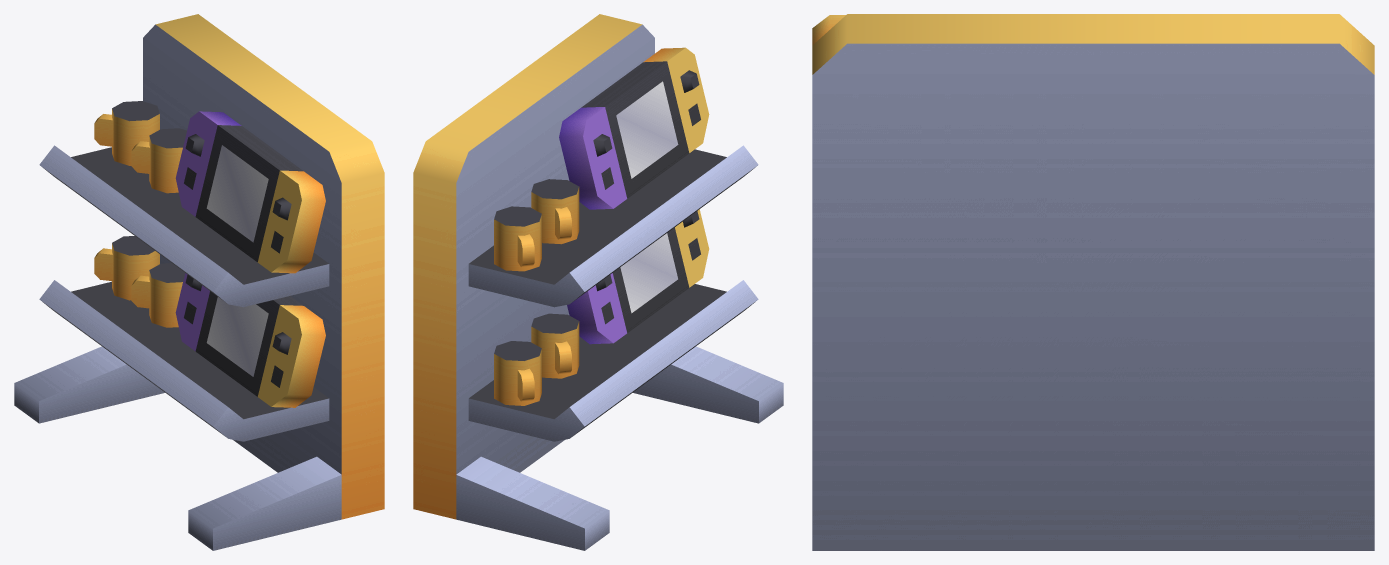
Rendered from prizes.001_lev2.glb.
3 views of the same model, side by side, from view 1: azimuth 30°, elevation 25°; view 2: azimuth 150°, elevation 25°; view 3: azimuth 270°, elevation 25° (orthographic). The views are drawn at different scales.
Parts seen in each view (by area): view 1: prizes.001_lev2; view 2: prizes.001_lev2; view 3: prizes.001_lev2.
Boxes of the visible parts, x1=… form: prizes.001_lev2: x1=14, y1=14, x2=384, y2=550; prizes.001_lev2: x1=413, y1=14, x2=783, y2=550; prizes.001_lev2: x1=812, y1=14, x2=1374, y2=550.
Bounding box in the file's own units: 1.61 × 3.21 × 3.23.
1 material, 1 textured.
